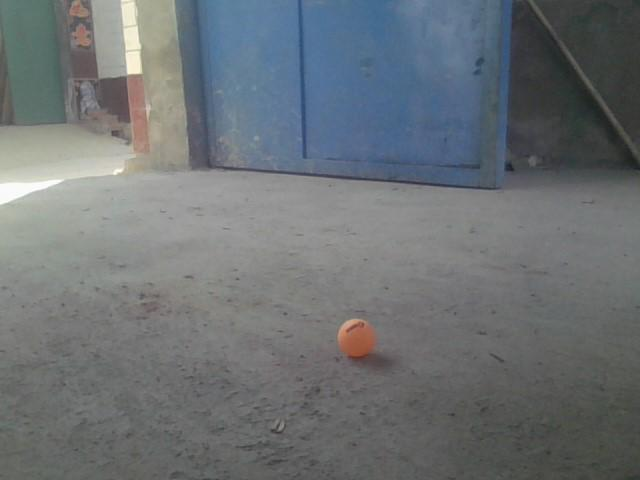ball: (338, 319, 376, 356)
